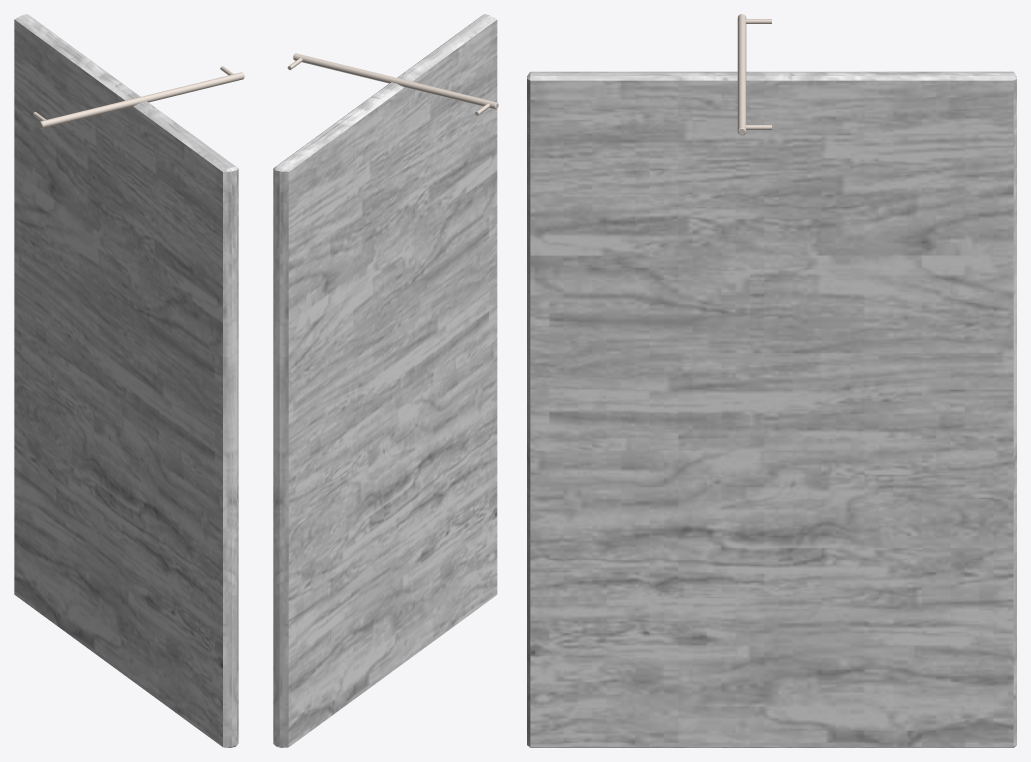
The model's file is Cabinet_bfe6f842.obj.
The picture shows the model from 3 angles, left to right: view 1: azimuth 30°, elevation 25°; view 2: azimuth 150°, elevation 25°; view 3: azimuth 270°, elevation 25°; orthographic projection. The views are drawn at different scales.
Parts seen in each view (by area): view 1: Mesh_9c89746c, handle_1_305mm_01_eddc41be; view 2: Mesh_9c89746c, handle_1_305mm_01_eddc41be; view 3: Mesh_9c89746c, handle_1_305mm_01_eddc41be.
Part boxes in pixels (x1,y1,x2,y2): Mesh_9c89746c: (14,14,238,747); handle_1_305mm_01_eddc41be: (33,66,244,128); Mesh_9c89746c: (273,14,497,747); handle_1_305mm_01_eddc41be: (287,53,498,115); Mesh_9c89746c: (527,71,1016,747); handle_1_305mm_01_eddc41be: (737,14,771,135).
Bounding box in the file's own units: 0.305 × 0.8394 × 0.5516.
